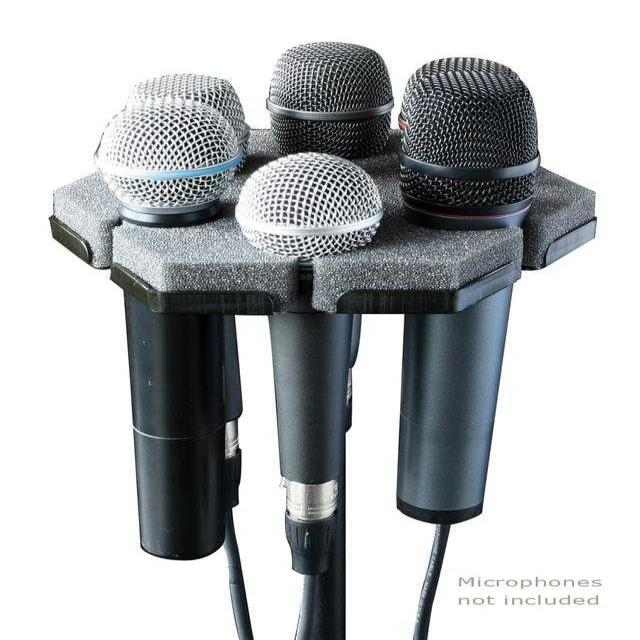microphone: (388, 70, 535, 602), (97, 93, 245, 581), (254, 147, 366, 620), (266, 40, 394, 160), (128, 65, 264, 176)
